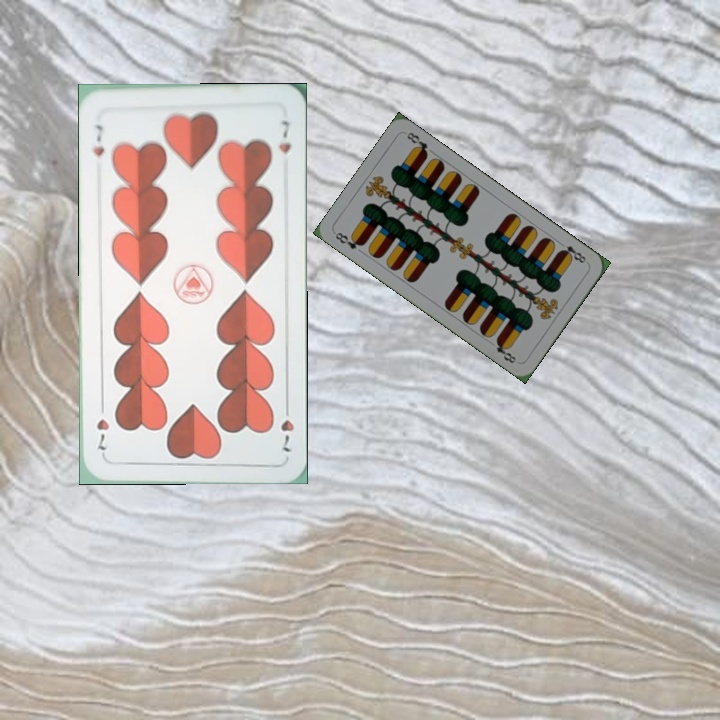E8: (555, 238, 590, 266), (331, 228, 366, 252)
H7: (277, 398, 297, 454), (89, 121, 107, 159)
